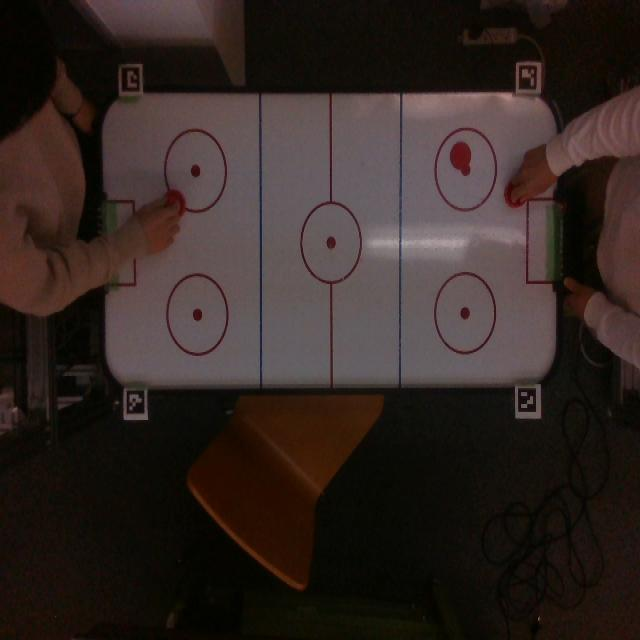puck: (450, 142, 471, 170)
